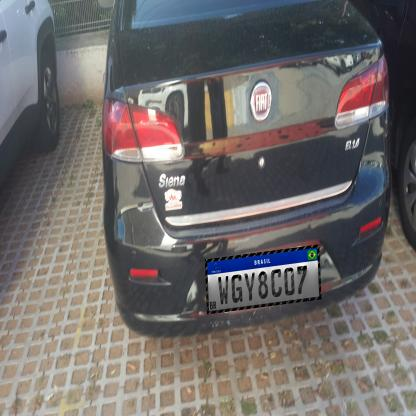PlacaM: (205, 244, 321, 314)
